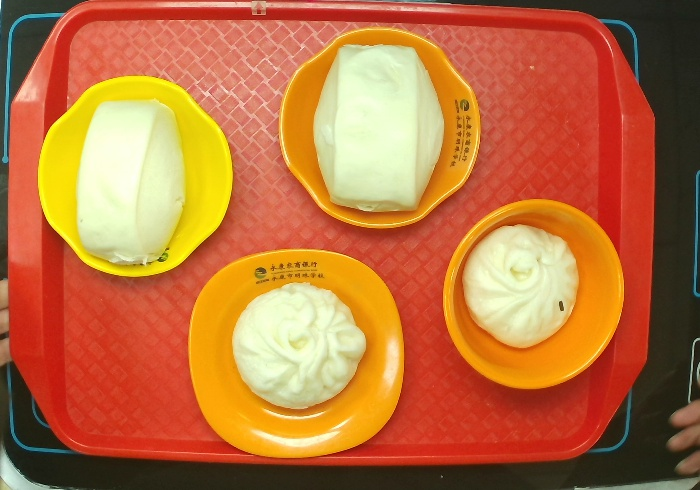YKMZ-Ju_Se_Fang_Die: (188, 249, 405, 458)
